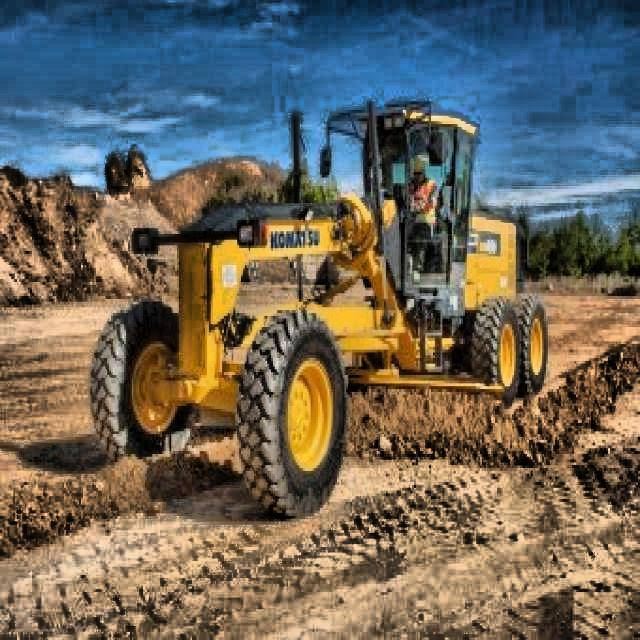bull_dozer/loader/grader: (87, 84, 553, 522)
person: (402, 148, 443, 289)
